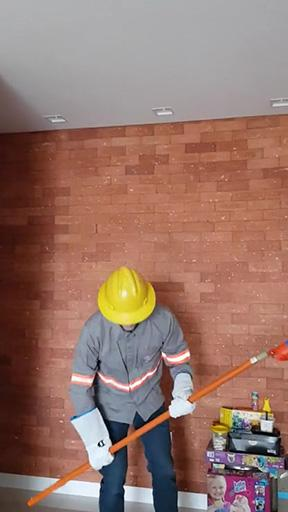Vara_Manobra: (28, 354, 268, 507)
